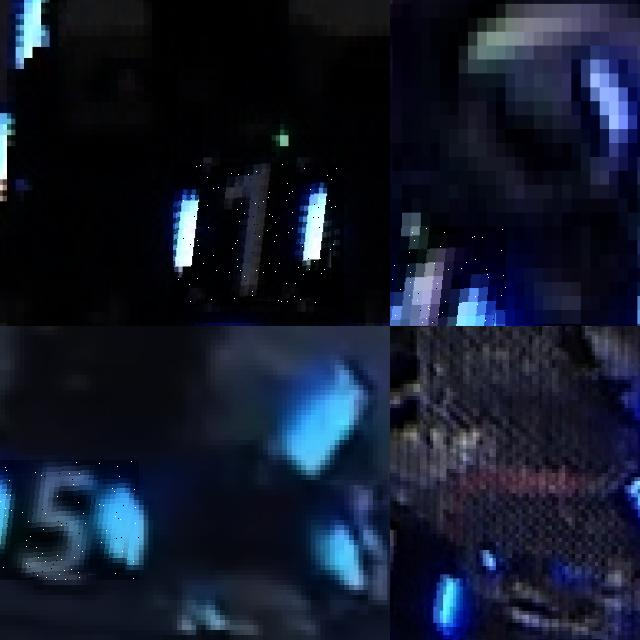B1: (173, 163, 344, 306), (390, 497, 469, 630)
B4: (390, 226, 505, 326)
B5: (0, 460, 138, 580)
